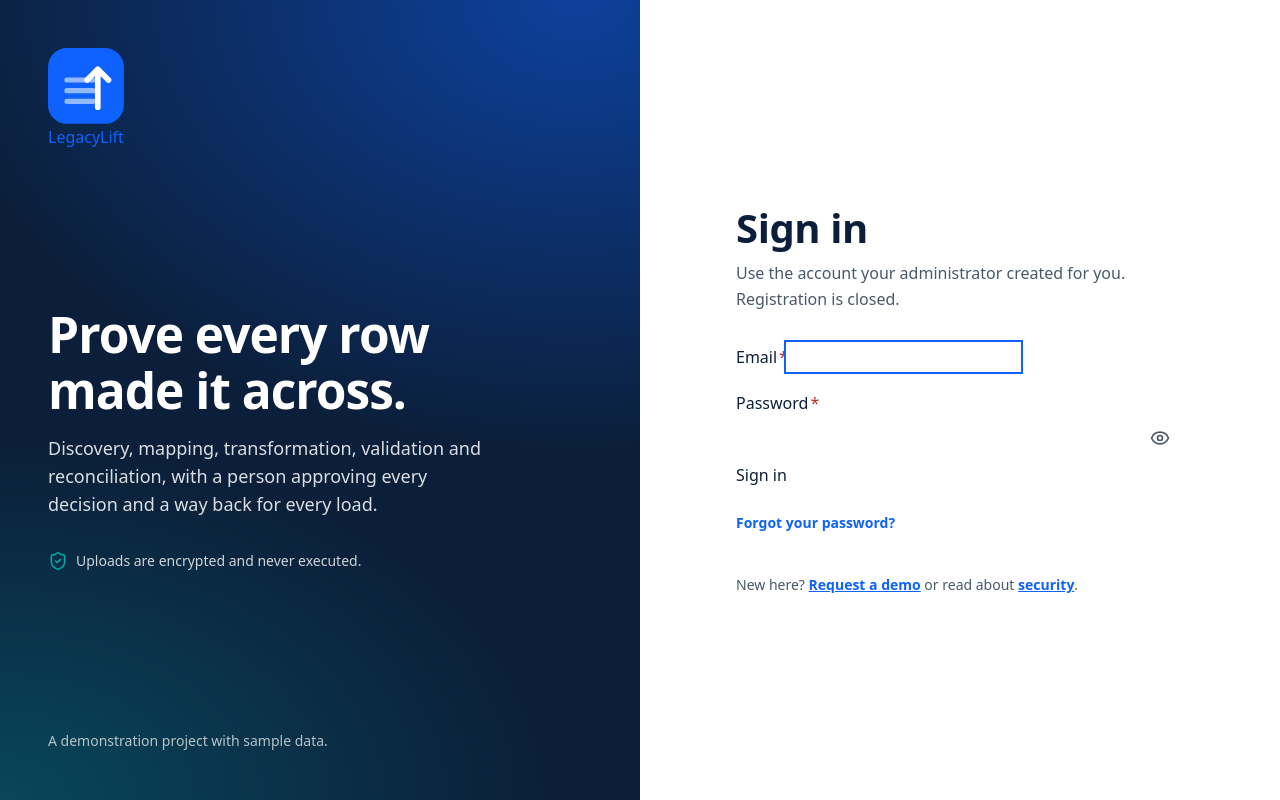
Test: Login page › shows and hides the password, and explains the forgotten password honestly
Click the button named "Show password" at [1160, 438], box [1140, 420, 1180, 456]
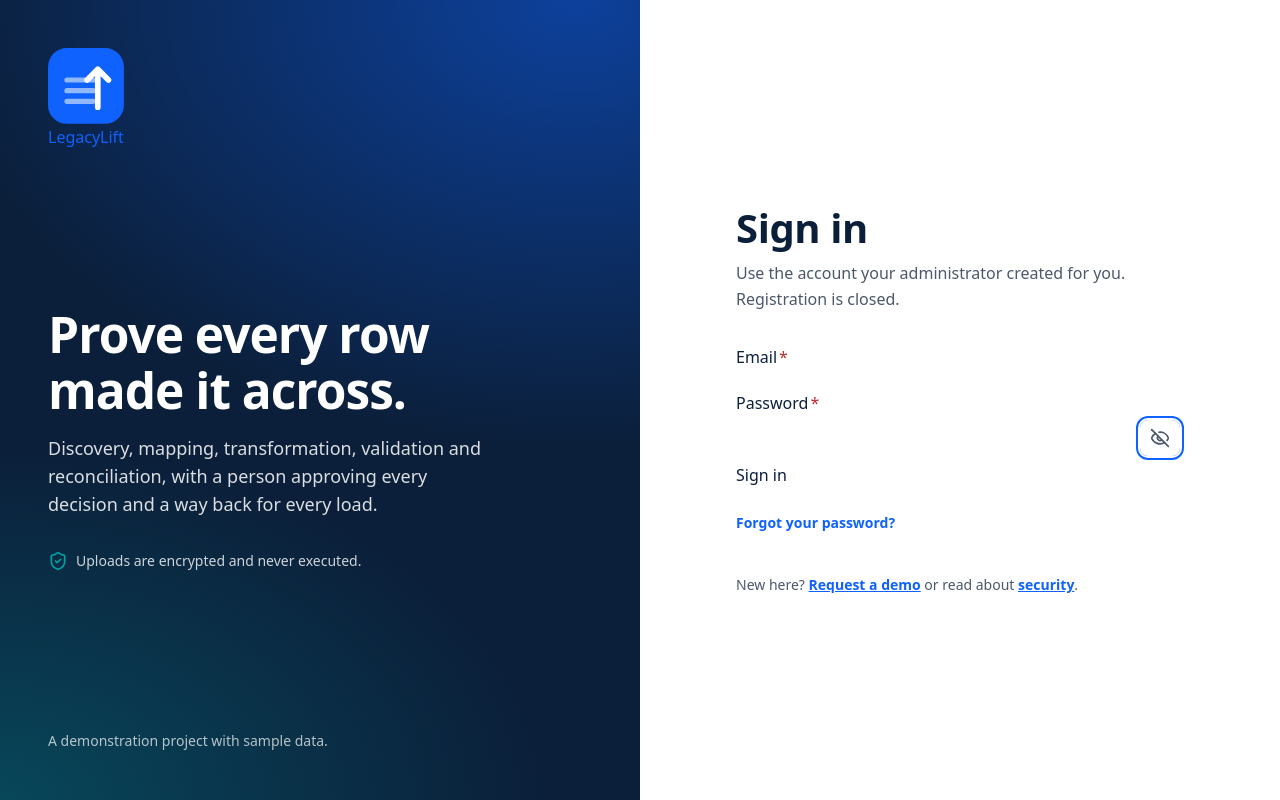
Check: the button named "Hide password" is pressed, box [1140, 420, 1180, 456]
Click the button "Forgot your password?" at [816, 523], box [736, 512, 895, 534]
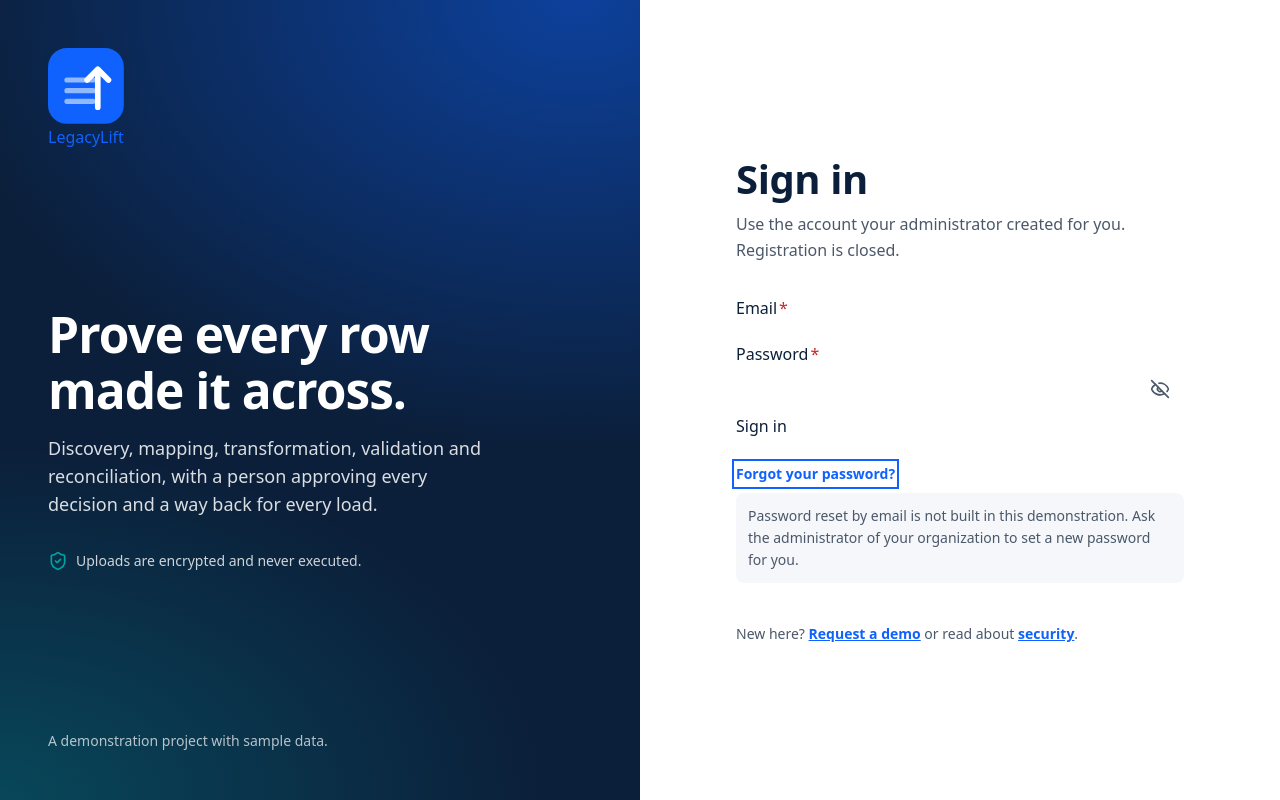
Check: the text "not built in this demonstration" is shown, box [748, 506, 1155, 569]
Check: the button "Forgot your password?" is expanded, box [736, 463, 895, 485]
